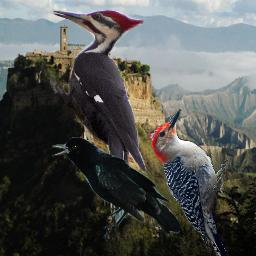Crow: (52, 137, 180, 239)
Woodpecker: (50, 10, 148, 197), (147, 109, 228, 256)
